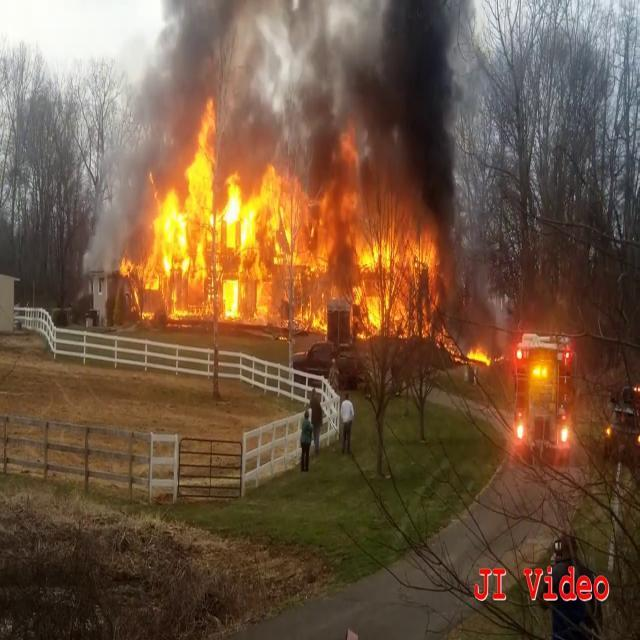Fire: (118, 115, 440, 338), (454, 337, 494, 370)
Smoke: (103, 0, 478, 208)
